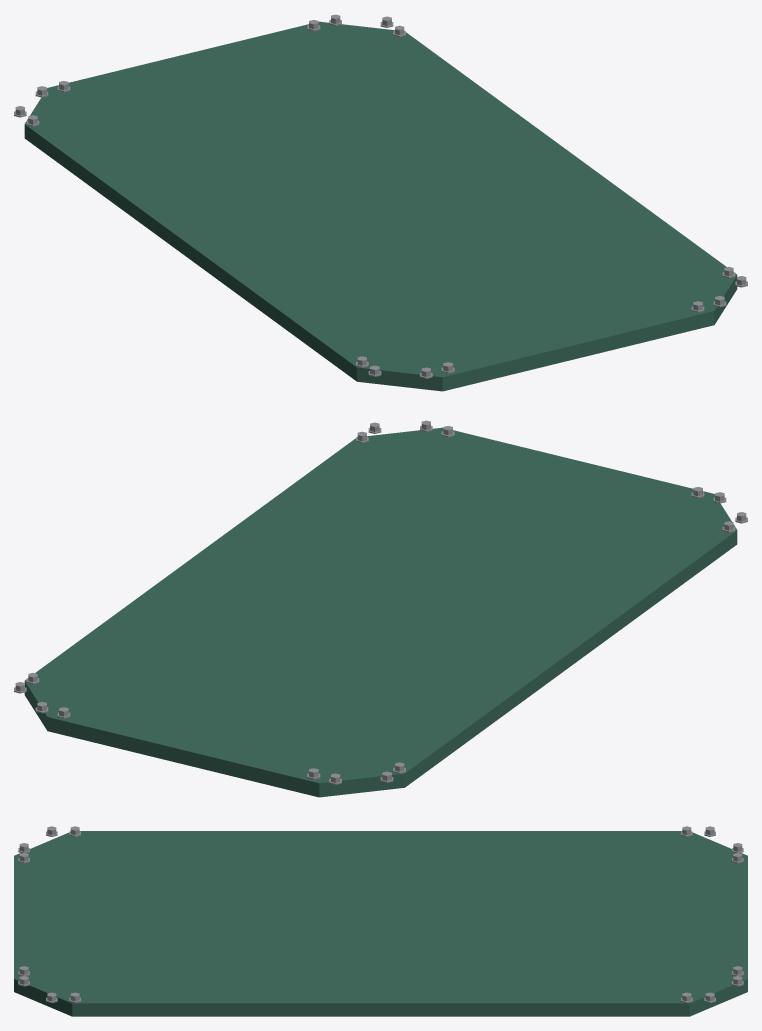
The model's file is vls8_mount.obj.
The picture shows the model from 3 angles, top to bottom: view 1: azimuth 30°, elevation 25°; view 2: azimuth 150°, elevation 25°; view 3: azimuth 270°, elevation 25°; orthographic projection. The views are drawn at different scales.
Visible parts, largest first — view 1: vls8_mount; view 2: vls8_mount; view 3: vls8_mount.
Part boxes in pixels (x1,y1,x2,y2): vls8_mount: (14, 14, 747, 391); vls8_mount: (14, 420, 747, 797); vls8_mount: (14, 826, 747, 1016).
Size of the model in its own units: 2.8 by 0.1437 by 5.04.
